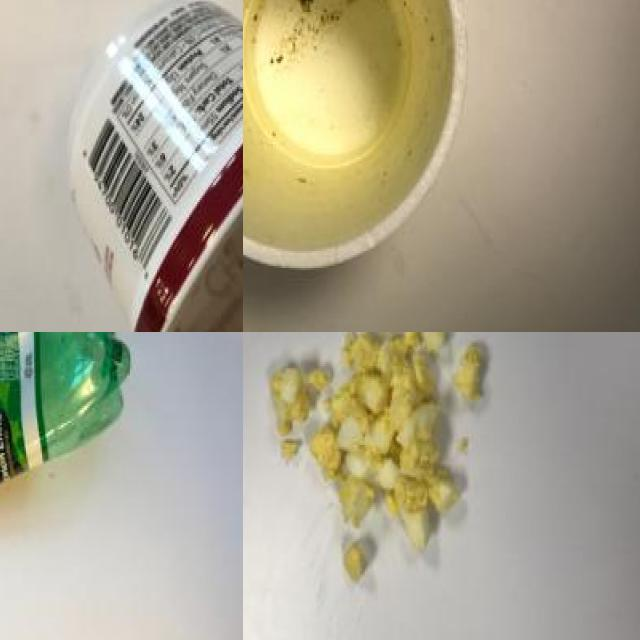compost: (261, 332, 508, 596)
plastic: (0, 332, 137, 502)
trash: (243, 0, 477, 290), (44, 0, 243, 332)
